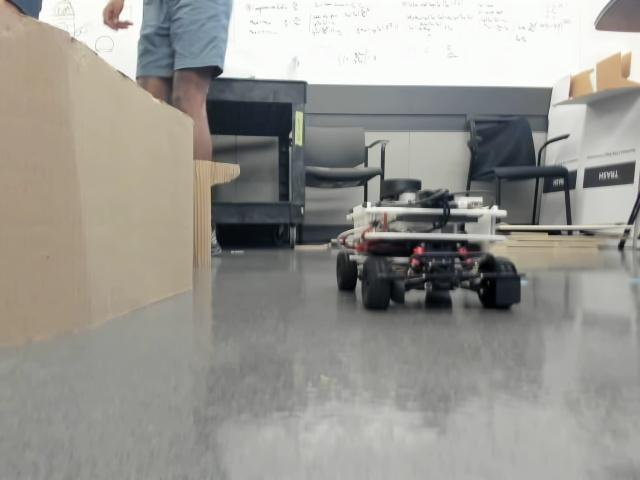Car: (335, 178, 525, 311)
